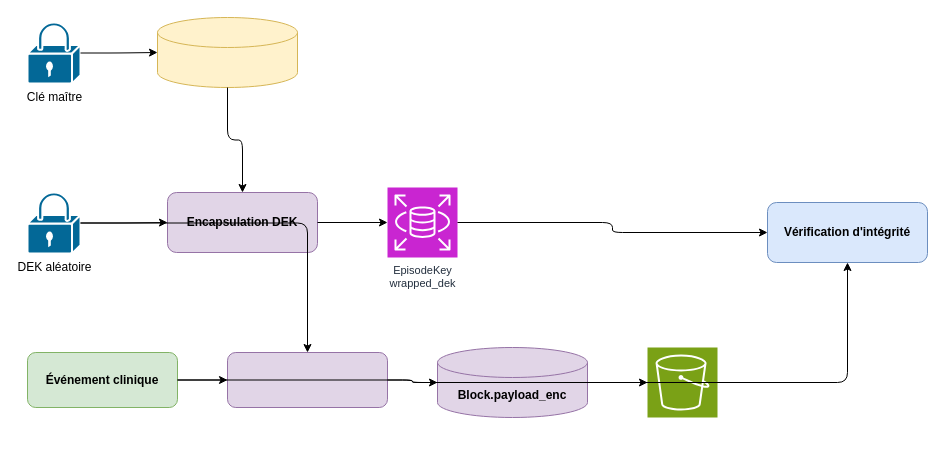
Some shapes in this 945 by 455 pixel diagram are drawn without their labels. Here are the shapes that lost their labels. From the top down, the centre of each, then its label:
At (x=227, y=52): "KEK (kek_id)".
At (x=307, y=380): "Chiffrement AES-GCM".
At (x=682, y=382): "Bucket S3 médias".
